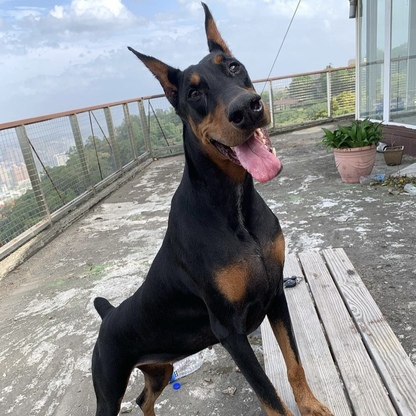doberman: (85, 3, 341, 416)
